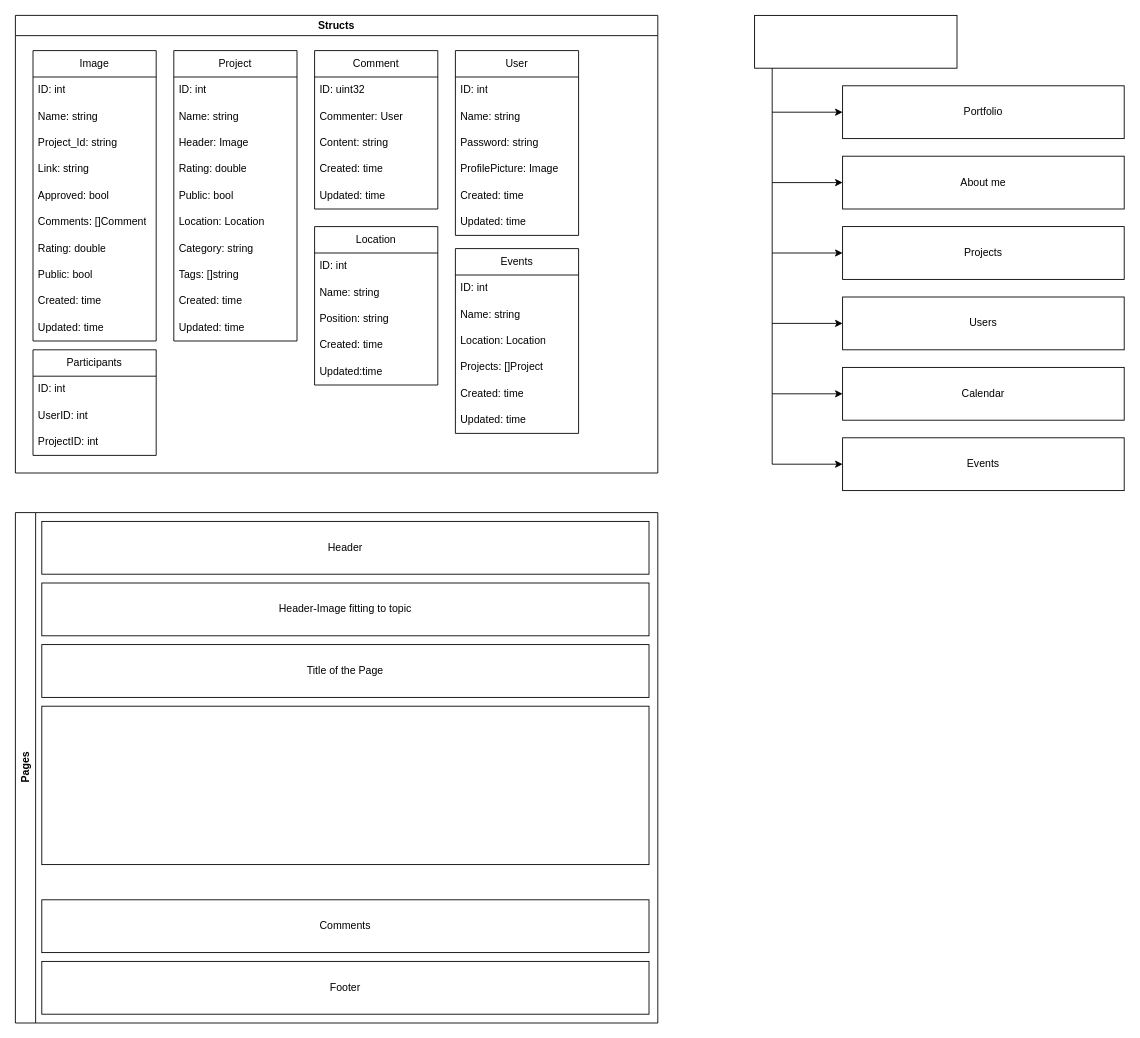
The diagram is 1140 pixels wide and 1038 high, and some of its shapes have lost their labels. Here are the shapes that lost their labels. From the top down, the centre of each, then its label:
(x=855, y=41): Index
(x=345, y=785): Content
